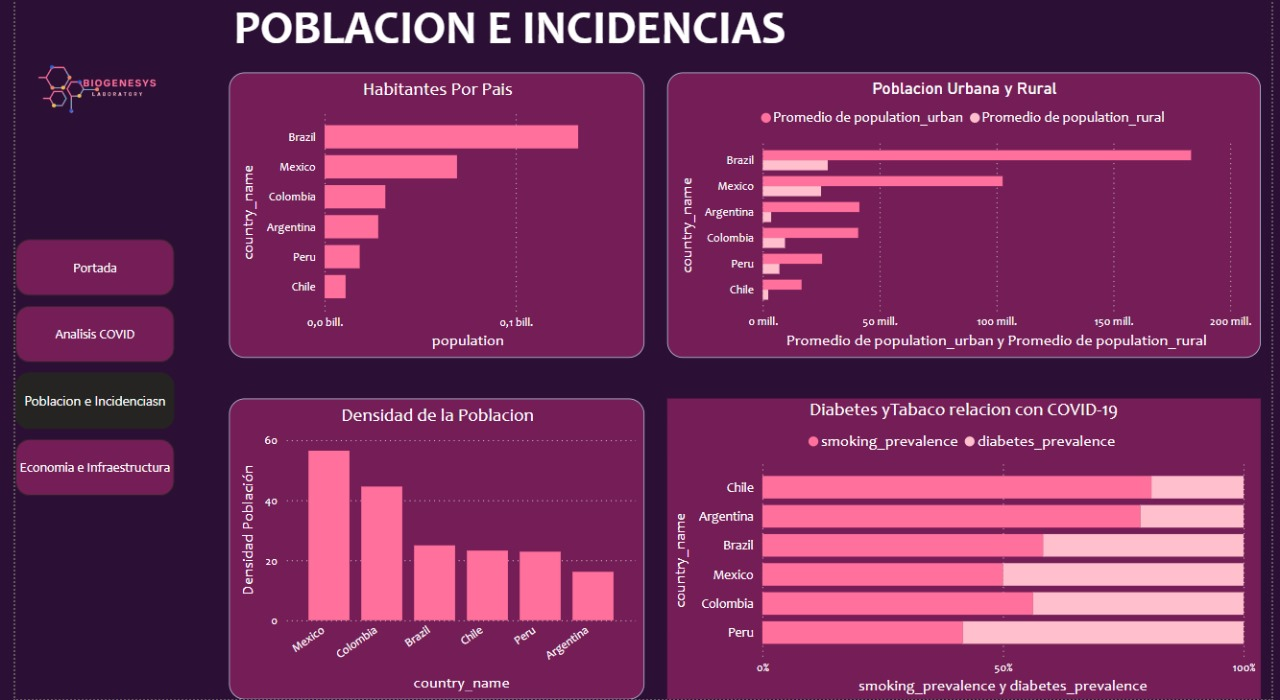

The dashboard page shown, as its layout file describes it:
{"tool":"powerbi","page":{"name":"Poblacion e Incidenciasn","canvas":[1280,720],"ordinal":2},"visuals":[{"type":"textbox","box":[217.4,0,808.9,81.2],"z":0},{"type":"barChart","title":"Habitantes Por Pais","fields":{"Category":["DatosFinalesFiltrado.country_name"],"Y":["Sum(DatosFinalesFiltrado.population)"]},"box":[217.4,81.2,423.3,291.4],"z":1000},{"type":"clusteredBarChart","title":"Poblacion Urbana y Rural","fields":{"Y":["Avg(DatosFinalesFiltrado.population_urban)","Avg(DatosFinalesFiltrado.population_rural)"],"Category":["DatosFinalesFiltrado.country_name"]},"box":[663.9,81.2,604.5,291.4],"z":2000},{"type":"columnChart","title":"Densidad  de la Poblacion","fields":{"Y":["*Medidas.Densidad Población"],"Category":["DatosFinalesFiltrado.country_name"]},"box":[217.4,413.1,423.3,307.3],"z":3000},{"type":"hundredPercentStackedBarChart","title":"Diabetes yTabaco relacion con COVID-19","fields":{"Y":["Sum(DatosFinalesFiltrado.smoking_prevalence)","Sum(DatosFinalesFiltrado.diabetes_prevalence)"],"Category":["DatosFinalesFiltrado.country_name"]},"box":[663.9,413.1,604.5,307.3],"z":4000},{"type":"pageNavigator","box":[0,250.6,162.7,263.5],"z":5000},{"type":"image","box":[0,0,163.1,195.5],"z":6000}]}

Visuals, with their boxes on the page's 1280x720 design canvas (x1, y1, x2, y2). These are canvas units, not pixel positions in the 1280x700 screenshot, which may show the page scaled, cropped or inside an application window:
textbox: l=217, t=0, r=1026, b=81
"Habitantes Por Pais" barChart: l=217, t=81, r=641, b=373
"Poblacion Urbana y Rural" clusteredBarChart: l=664, t=81, r=1268, b=373
"Densidad  de la Poblacion" columnChart: l=217, t=413, r=641, b=720
"Diabetes yTabaco relacion con COVID-19" hundredPercentStackedBarChart: l=664, t=413, r=1268, b=720
pageNavigator: l=0, t=251, r=163, b=514
image: l=0, t=0, r=163, b=196
